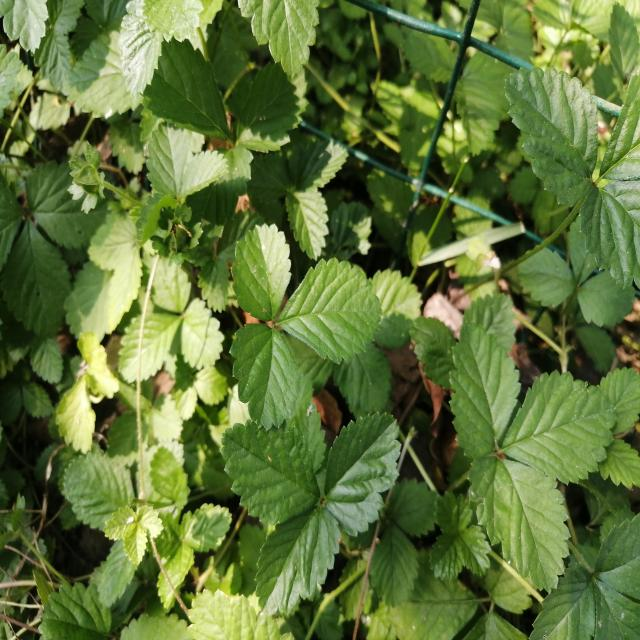Mock_strawberry: (222, 221, 404, 416)
